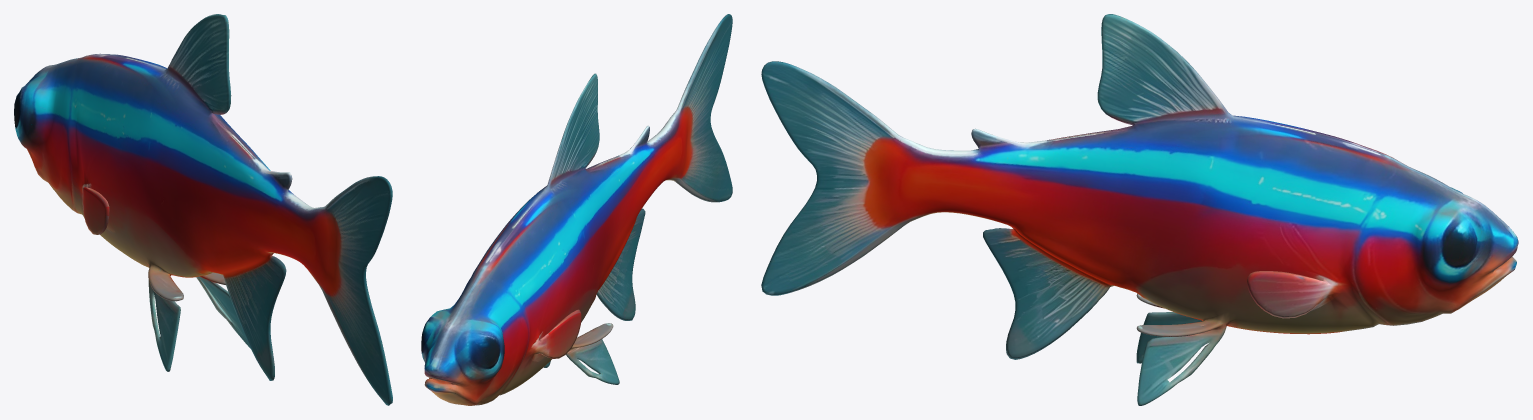
File: tripo_convert_92270b96-0002-4256-85f2-b7c221a0a452.fbx
3 renders of one model, left to right at view 1: azimuth 30°, elevation 25°; view 2: azimuth 150°, elevation 25°; view 3: azimuth 270°, elevation 25°, orthographic. The views are drawn at different scales.
Parts seen in each view (by area): view 1: tripo_node_92270b96; view 2: tripo_node_92270b96; view 3: tripo_node_92270b96.
Part boxes in pixels (x1,y1,x2,y2): tripo_node_92270b96: [14, 14, 392, 405]; tripo_node_92270b96: [421, 14, 732, 405]; tripo_node_92270b96: [761, 14, 1518, 405].
Size of the model in its own units: 0.1633 by 0.5389 by 0.9975.
Materials: 1 (1 with a texture image).
